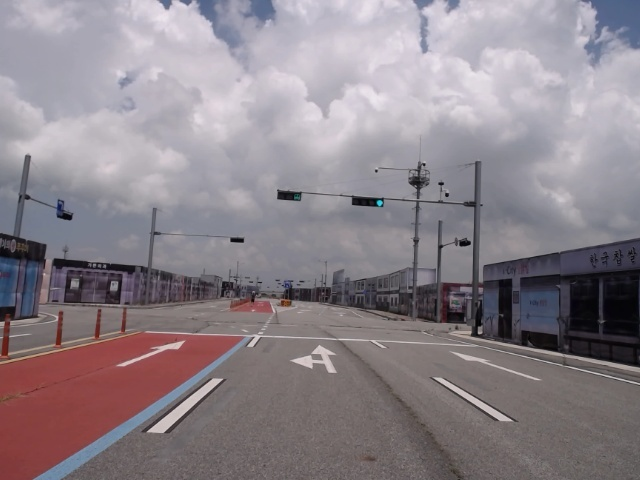straight_green_4: (351, 195, 384, 208)
